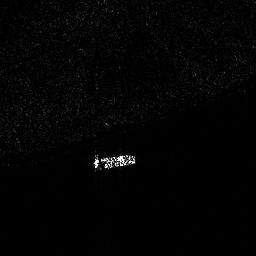ship: (92, 154, 138, 172)
